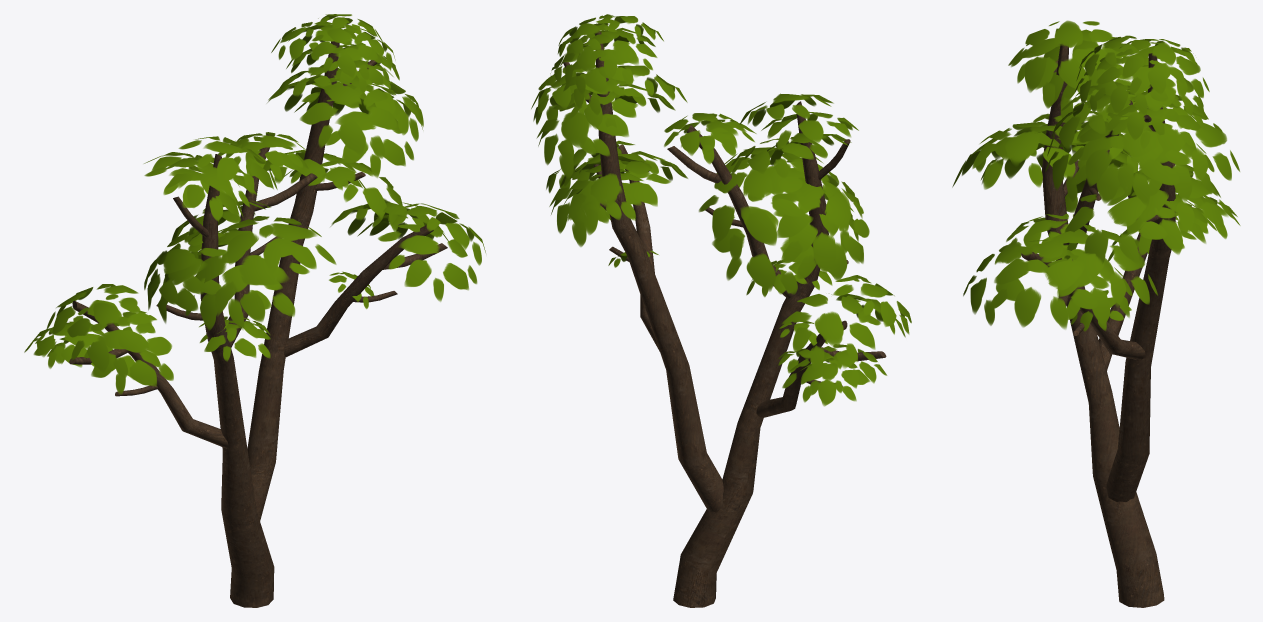
3 renders of one model, left to right at view 1: azimuth 30°, elevation 25°; view 2: azimuth 150°, elevation 25°; view 3: azimuth 270°, elevation 25°, orthographic. The views are drawn at different scales.
Visible parts, largest first — view 1: Birch_8; view 2: Birch_8; view 3: Birch_8.
Part boxes in pixels (bbox=[...]): Birch_8: bbox=[24, 14, 485, 607]; Birch_8: bbox=[531, 14, 911, 607]; Birch_8: bbox=[952, 20, 1240, 607].
Size of the model in its own units: 5.86 by 7.92 by 3.61.
Materials: 2 (2 with a texture image).
